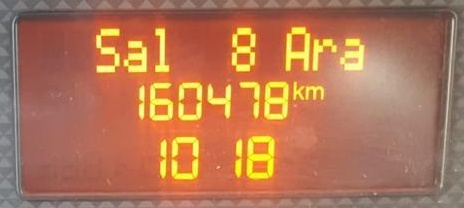0: (169, 134, 200, 180), (175, 79, 204, 121)
1: (154, 136, 168, 180), (230, 135, 243, 179), (133, 82, 145, 121)
4: (205, 81, 234, 120)
6: (146, 80, 174, 122)
7: (236, 78, 260, 120)
8: (244, 133, 276, 180), (228, 24, 258, 73), (261, 79, 289, 120)
X: (91, 23, 121, 74), (281, 23, 311, 72), (337, 36, 368, 72), (151, 24, 171, 74), (311, 36, 337, 73), (122, 38, 149, 73), (305, 83, 324, 100), (291, 79, 304, 100)
